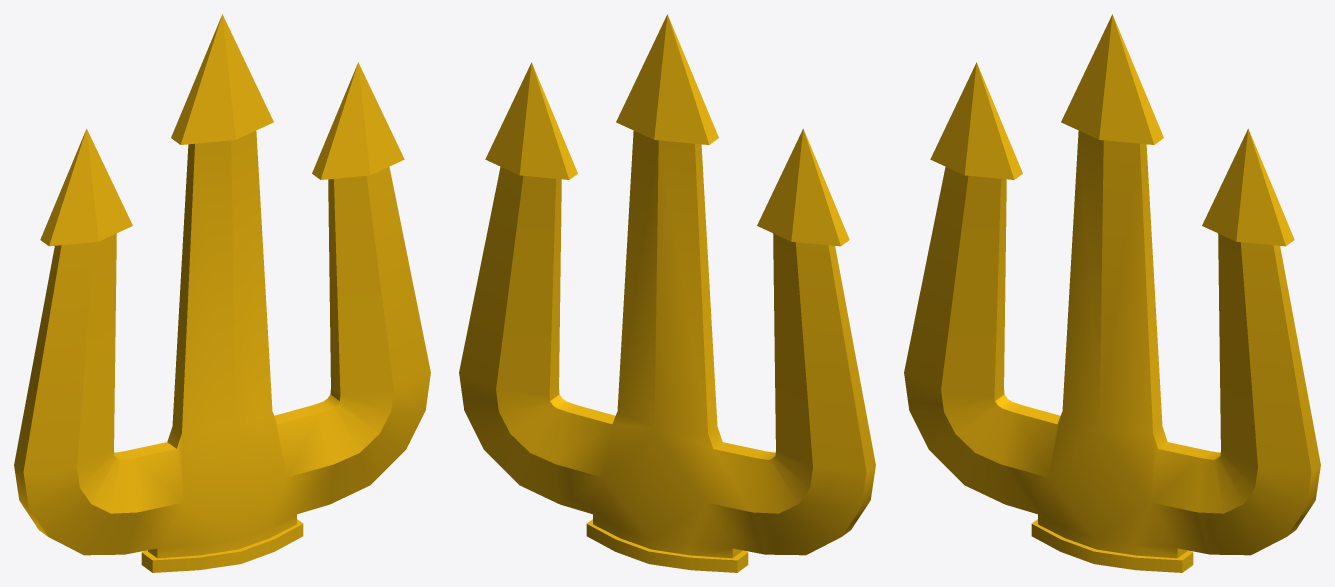
The model's file is trident_emblem.fbx.
The picture shows the model from 3 angles, left to right: view 1: azimuth 30°, elevation 25°; view 2: azimuth 150°, elevation 25°; view 3: azimuth 330°, elevation 25°; orthographic projection.
Visible parts, largest first — view 1: Cube.6456; view 2: Cube.6456; view 3: Cube.6456.
Part boxes in pixels (box(x1,y1,x2,y2)): Cube.6456: box(14, 14, 430, 572); Cube.6456: box(459, 14, 875, 572); Cube.6456: box(904, 14, 1320, 572).
Bounding box in the file's own units: 180 × 227 × 28.37.
Materials: 1 (1 with a texture image).
